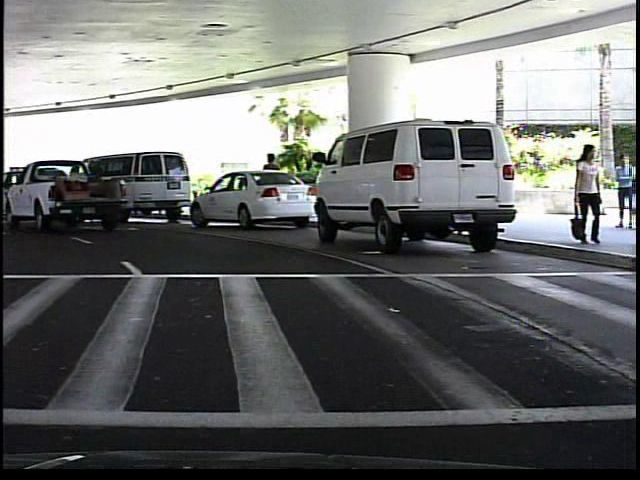person: (568, 141, 602, 247), (611, 154, 634, 234), (260, 148, 286, 215)
